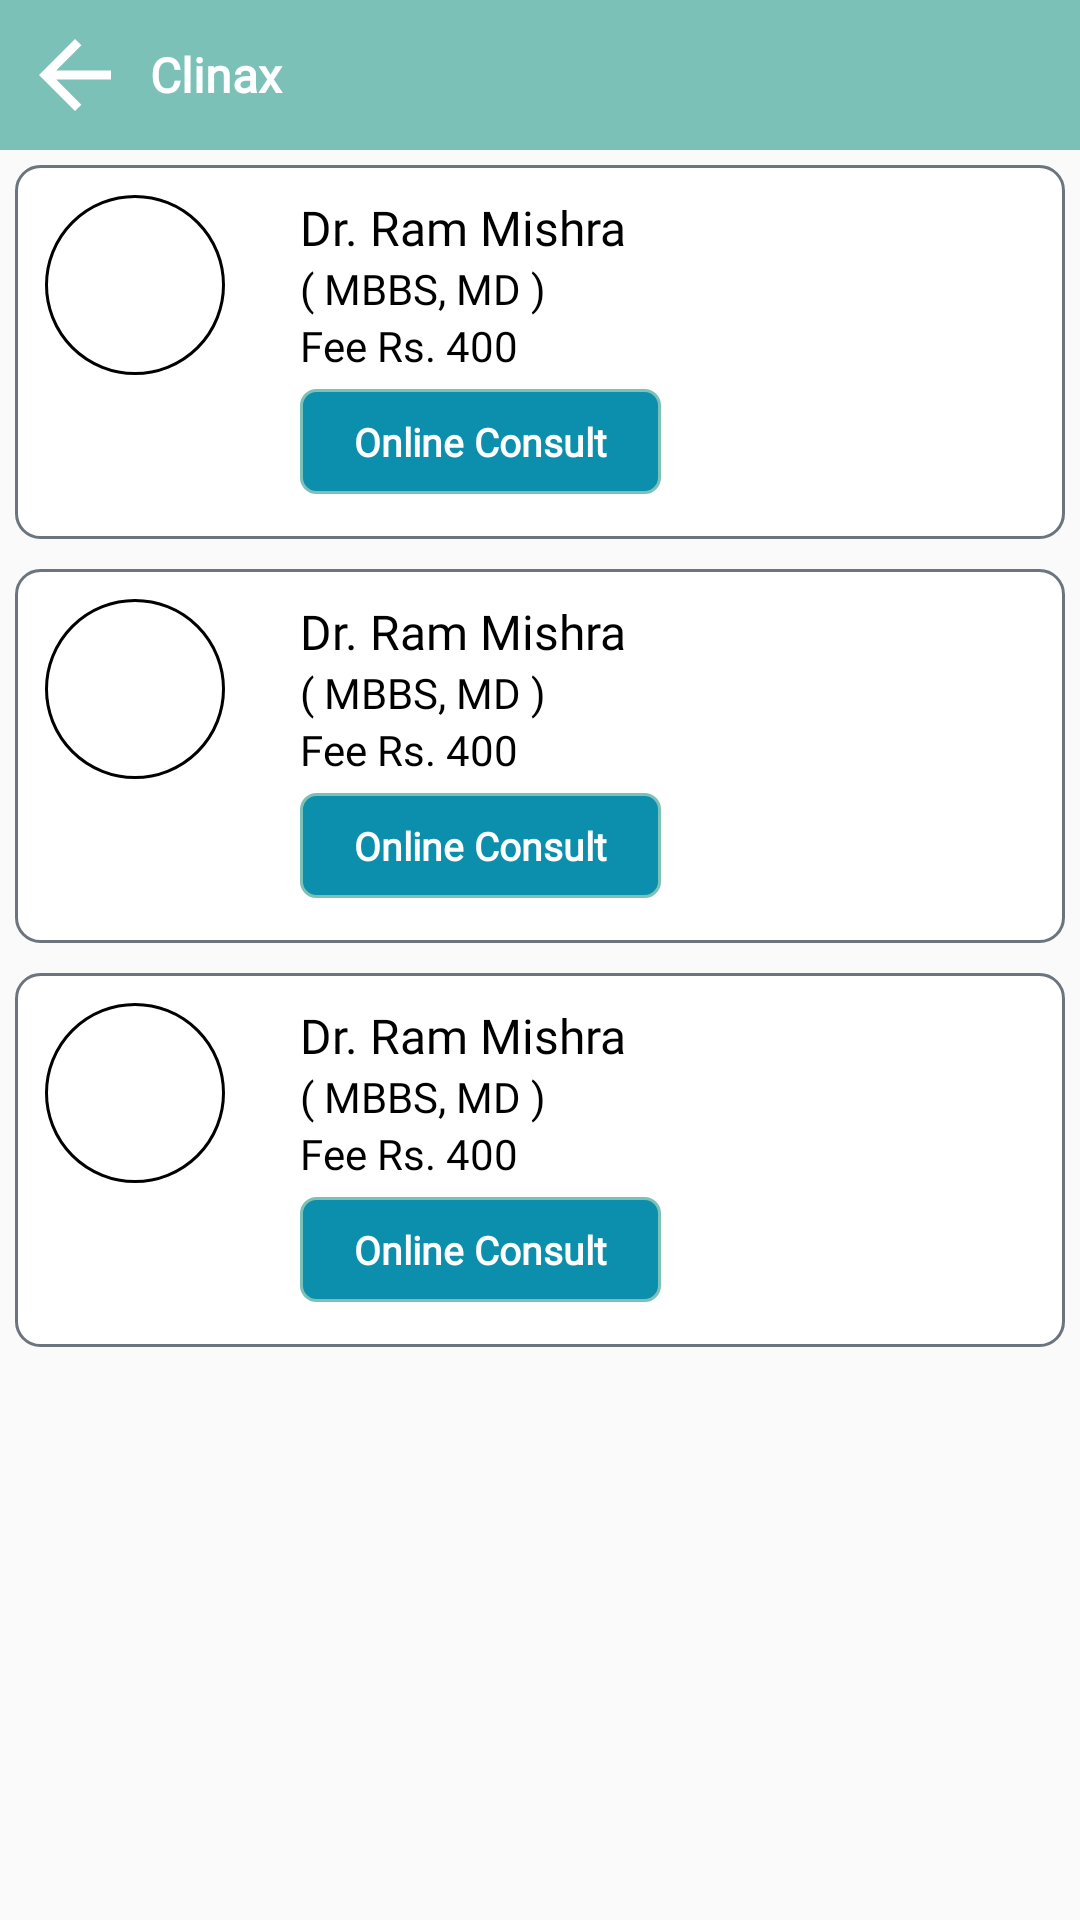

Screen size 1080 × 1920. Icon name, then its center in pixels as (x=x, y=y):
arrow back: (x=75, y=75)
